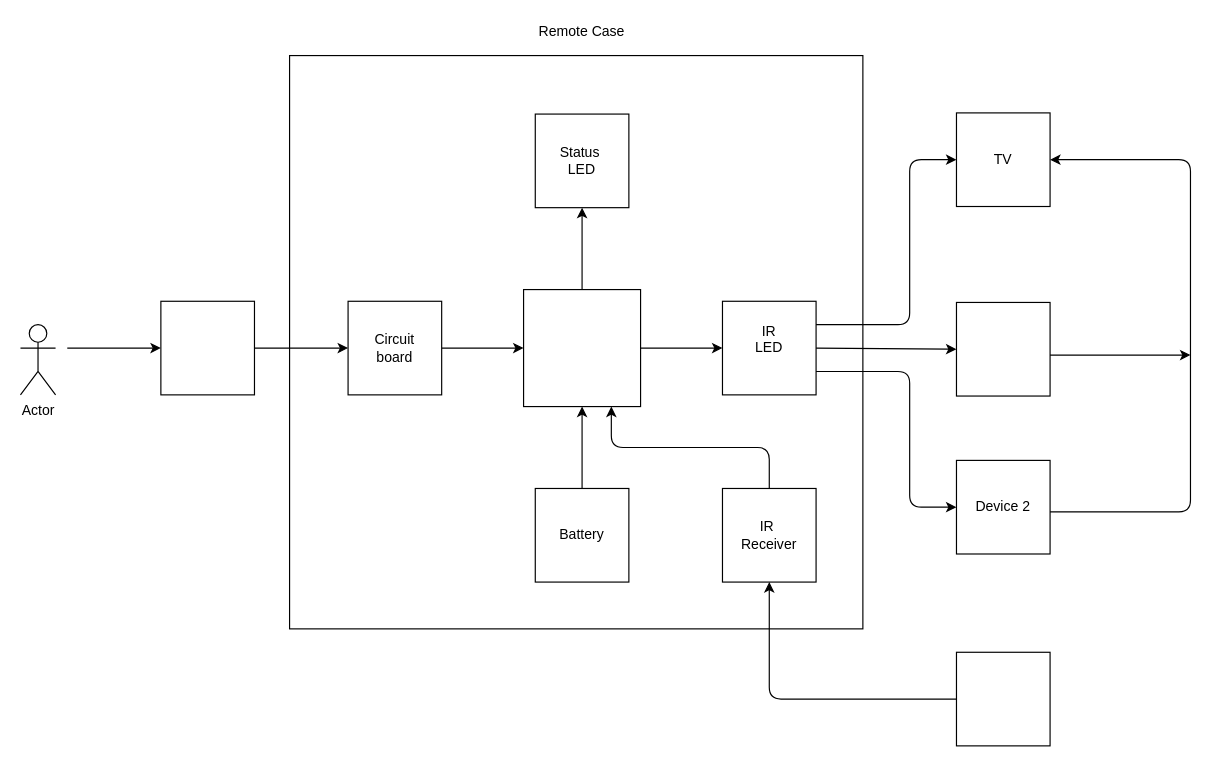
Image size: 1220x766. Some labels were removed from this diagram. Here are the shapes that lost their labels. From the top down, the centre of each, then its label:
At [207,347]: "Button on Remote".
At [581,347]: "Microcontroller".
At [1002,348]: "Device 1".
At [1002,698]: "IR Signal".
